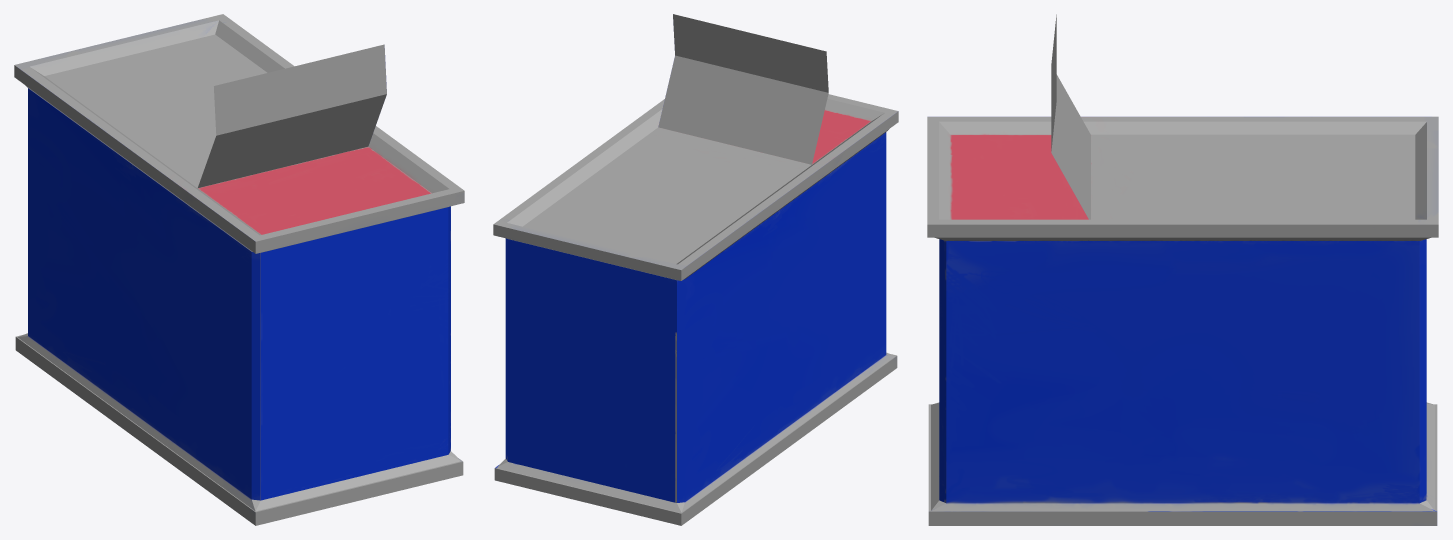
The model's file is Sfam.glb.
The picture shows the model from 3 angles, left to right: view 1: azimuth 30°, elevation 25°; view 2: azimuth 150°, elevation 25°; view 3: azimuth 270°, elevation 25°; orthographic projection. The views are drawn at different scales.
Visible parts, largest first — view 1: Cube; view 2: Cube; view 3: Cube.
Boxes of the visible parts, <box> form: Cube: <box>14,14,464,525</box>; Cube: <box>493,14,898,525</box>; Cube: <box>927,14,1438,525</box>.
Bounding box in the file's own units: 1.05 × 1.88 × 2.1.
1 material, 1 textured.
